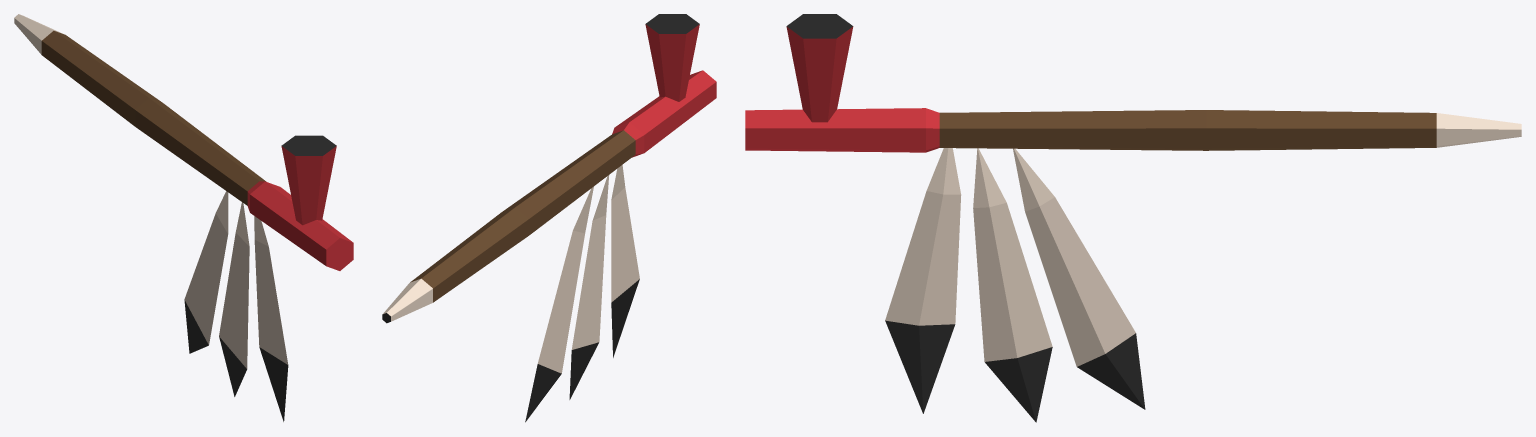
File: pipe-peace.glb
3 views of the same model, side by side, from view 1: azimuth 30°, elevation 25°; view 2: azimuth 150°, elevation 25°; view 3: azimuth 270°, elevation 25° (orthographic). The views are drawn at different scales.
Parts seen in each view (by area): view 1: pipe-peace; view 2: pipe-peace; view 3: pipe-peace.
Part boxes in pixels (box(x1,y1,x2,y2)): pipe-peace: box(14, 14, 353, 421); pipe-peace: box(382, 14, 716, 422); pipe-peace: box(745, 14, 1521, 422).
Bounding box in the file's own units: 0.0422 × 0.3115 × 0.5652.
1 material, 1 textured.
